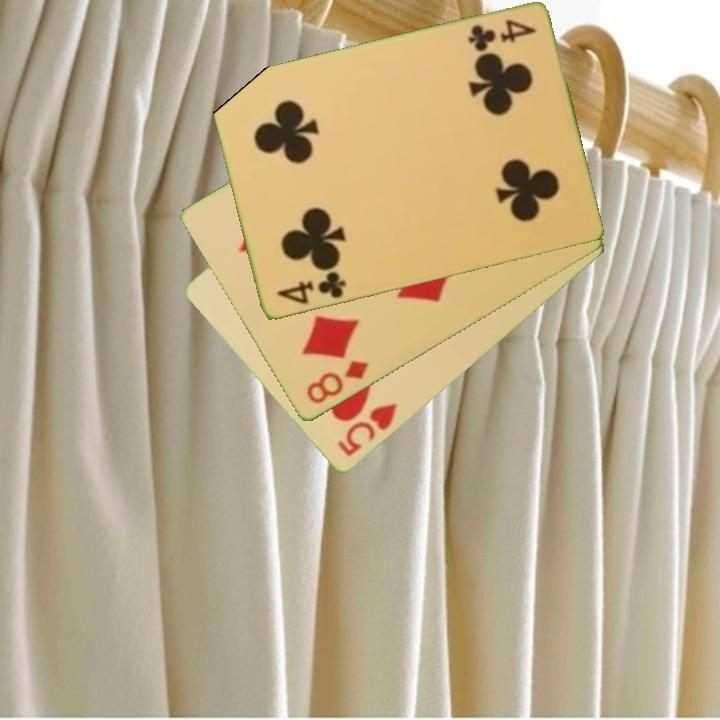4c: (273, 268, 349, 308), (464, 16, 538, 55)
5h: (333, 400, 401, 460)
8d: (302, 357, 372, 408)
